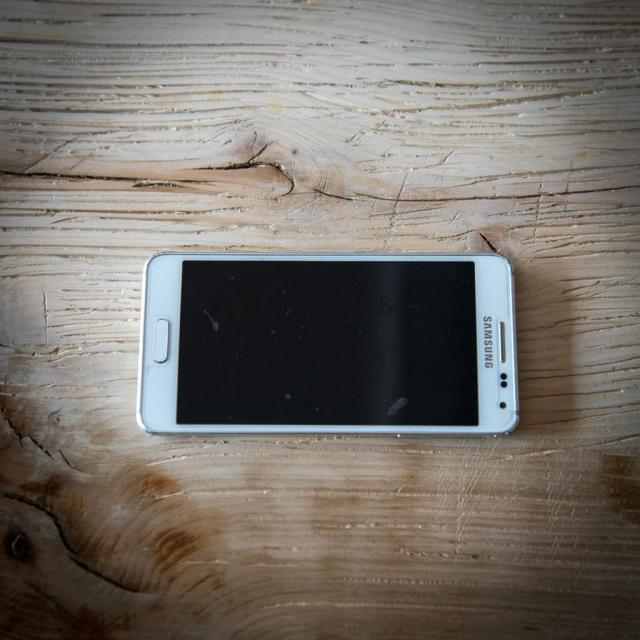Phone: (139, 251, 519, 436)
